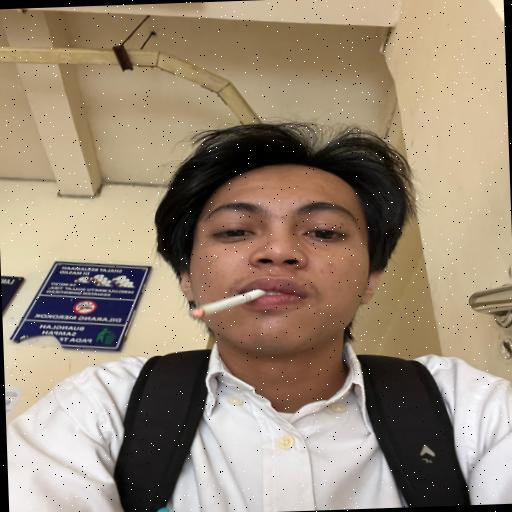merokok: (173, 210, 340, 344)
